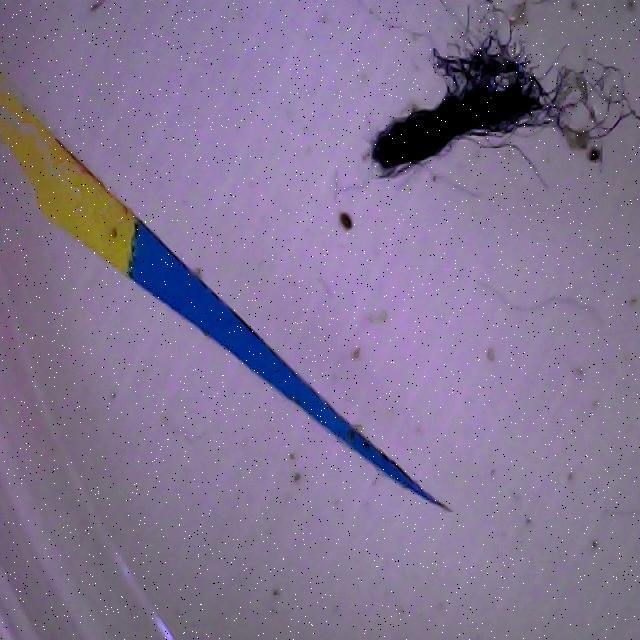Fibre: (348, 1, 636, 200), (458, 258, 618, 348)
